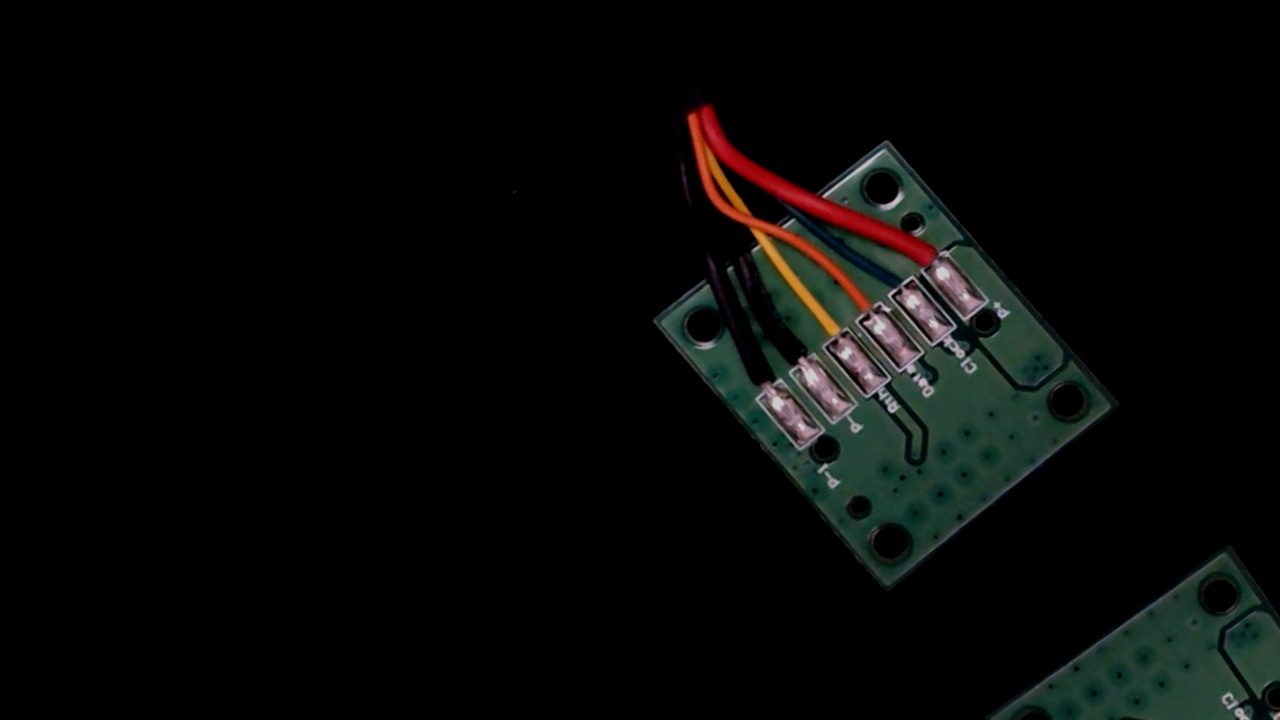Black: (749, 305, 828, 389)
Black1: (718, 334, 793, 413)
Green: (861, 243, 929, 312)
Orange: (819, 257, 895, 337)
Red: (892, 219, 960, 288)
Yellow: (782, 280, 862, 365)
